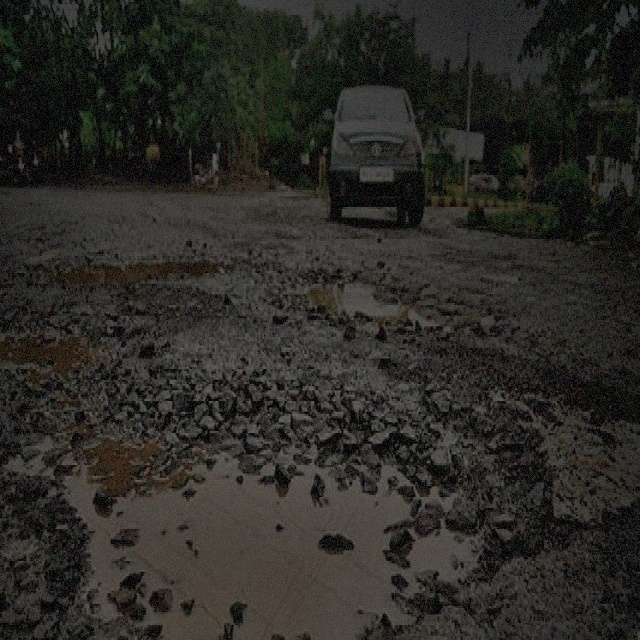pothole: (0, 371, 561, 638), (291, 260, 438, 337), (42, 252, 231, 294), (0, 316, 119, 375)
